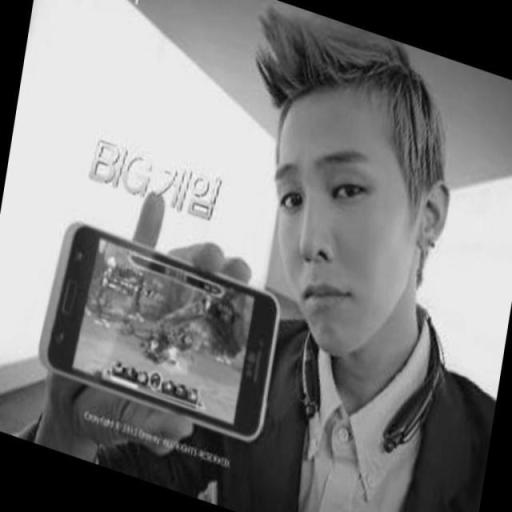phone: (39, 223, 278, 441)
